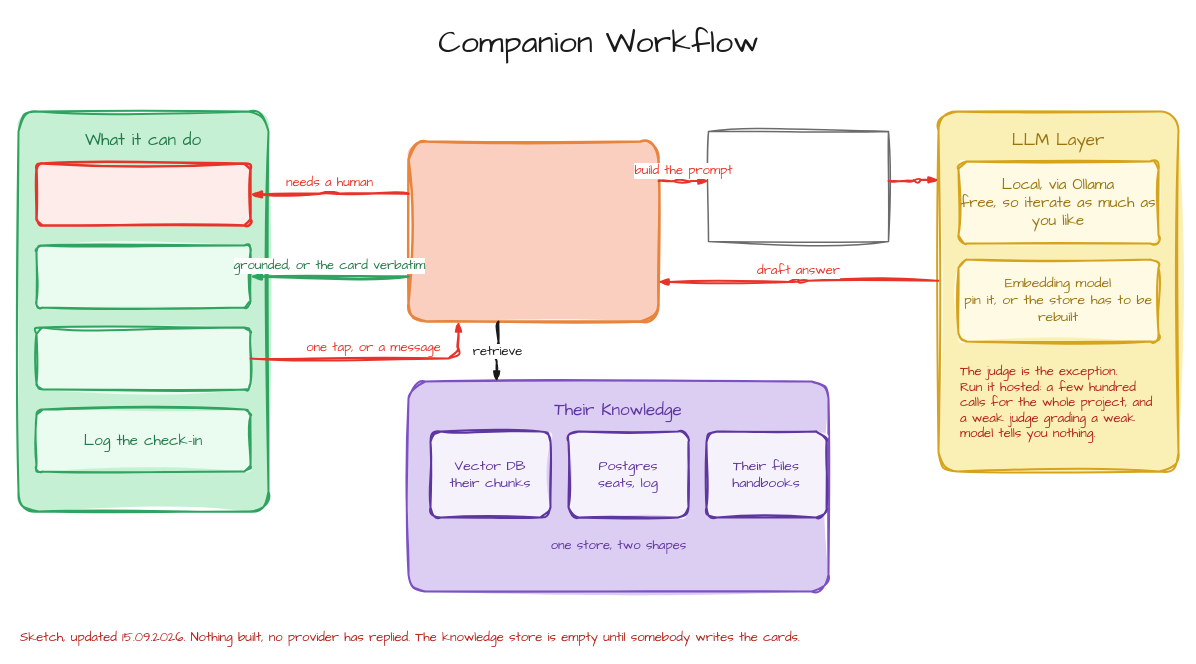
This 1196x664 diagram has some shape labels left out. The shapes that lost their labels are listed below. From the top down, each one's centre as x and y in pixels, then its label:
At (143,194): "Escalate to a human".
At (798,186): "prompt: {} context: [ their chunks, the situation, month 4 ]".
At (533,231): "The Companion LangGraph guardrails in and out".
At (143,276): "Send on Telegram".
At (143,358): "Ask one question".
